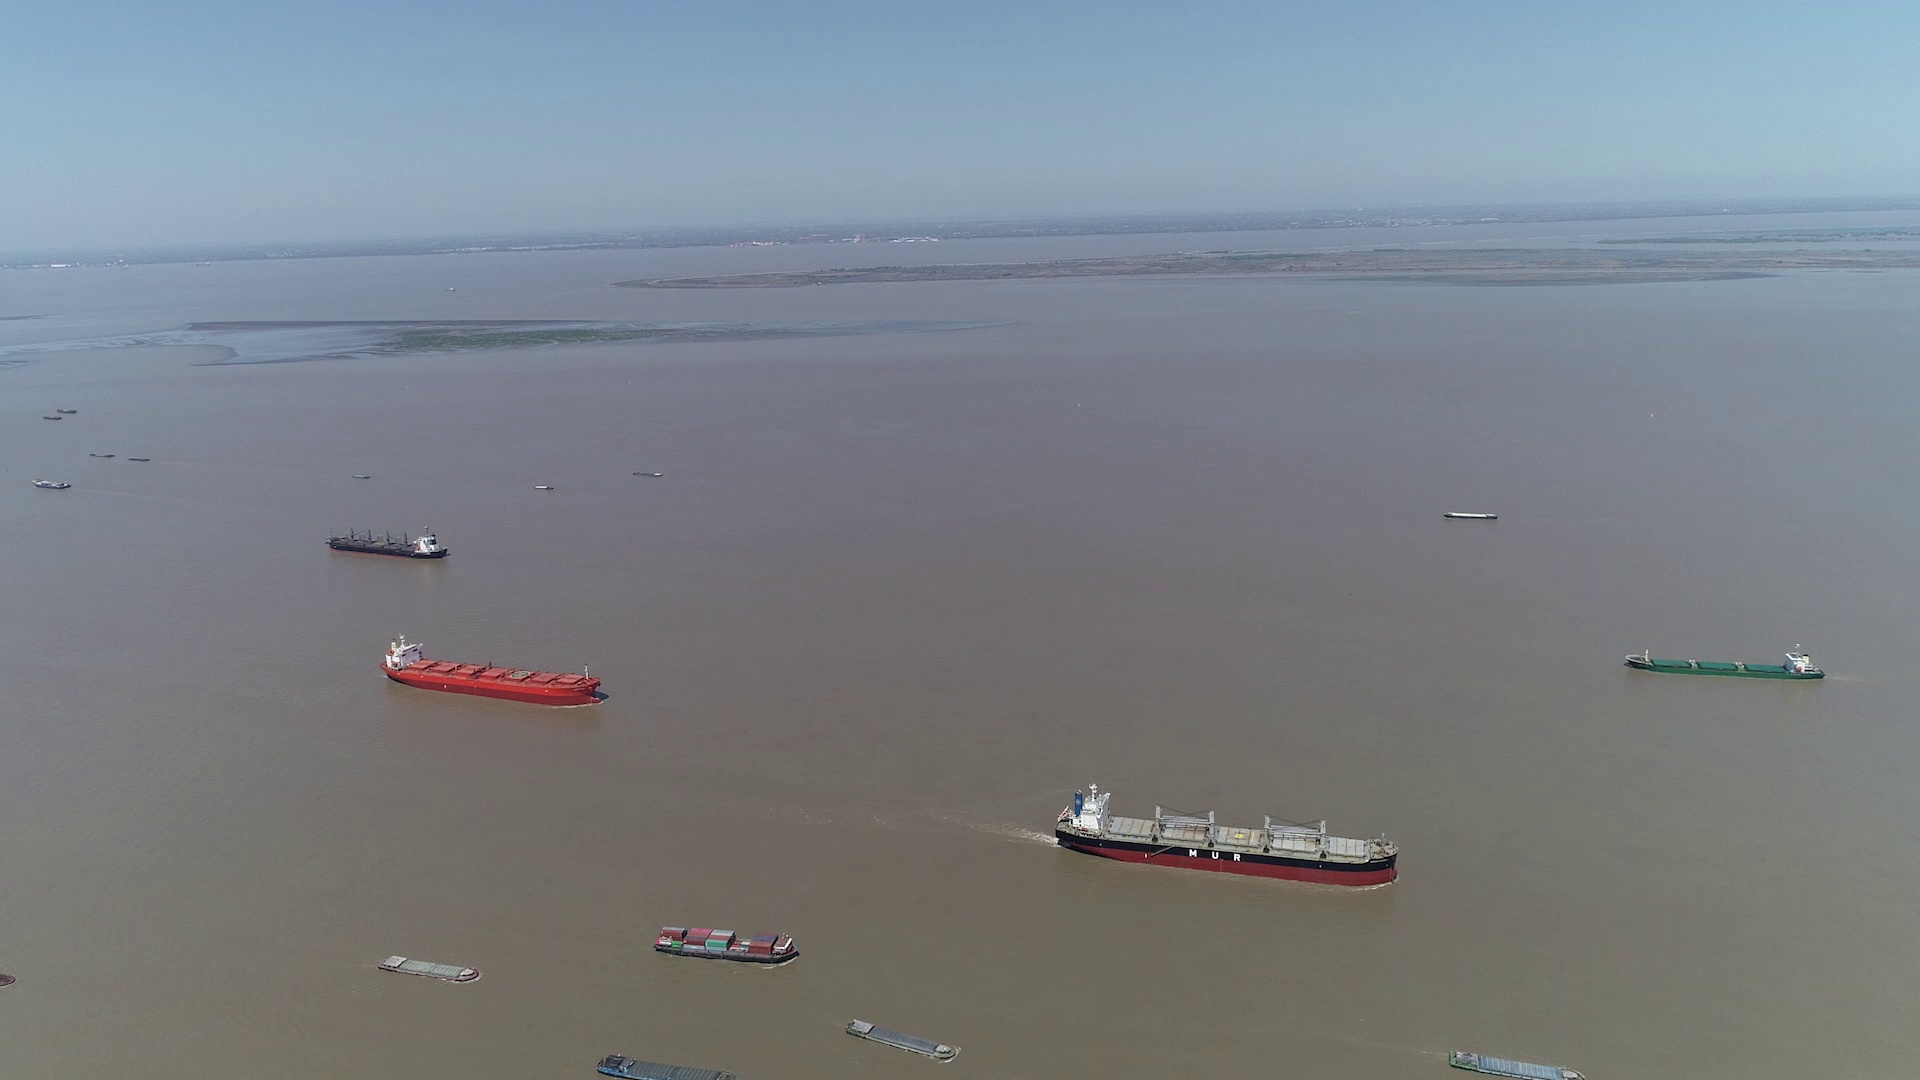ship: (1058, 785, 1402, 884), (381, 636, 603, 705), (1625, 649, 1825, 680), (654, 927, 799, 965), (847, 1021, 960, 1064), (324, 527, 447, 559), (1449, 1050, 1582, 1079), (600, 1054, 735, 1080), (378, 953, 479, 982), (34, 477, 73, 489), (1447, 512, 1495, 521)
